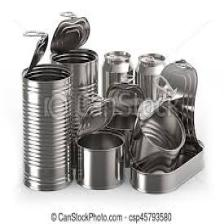metal: (16, 24, 74, 196), (137, 66, 208, 201), (52, 13, 101, 164), (137, 34, 171, 167), (105, 36, 136, 179), (71, 114, 123, 198), (104, 78, 140, 154)
